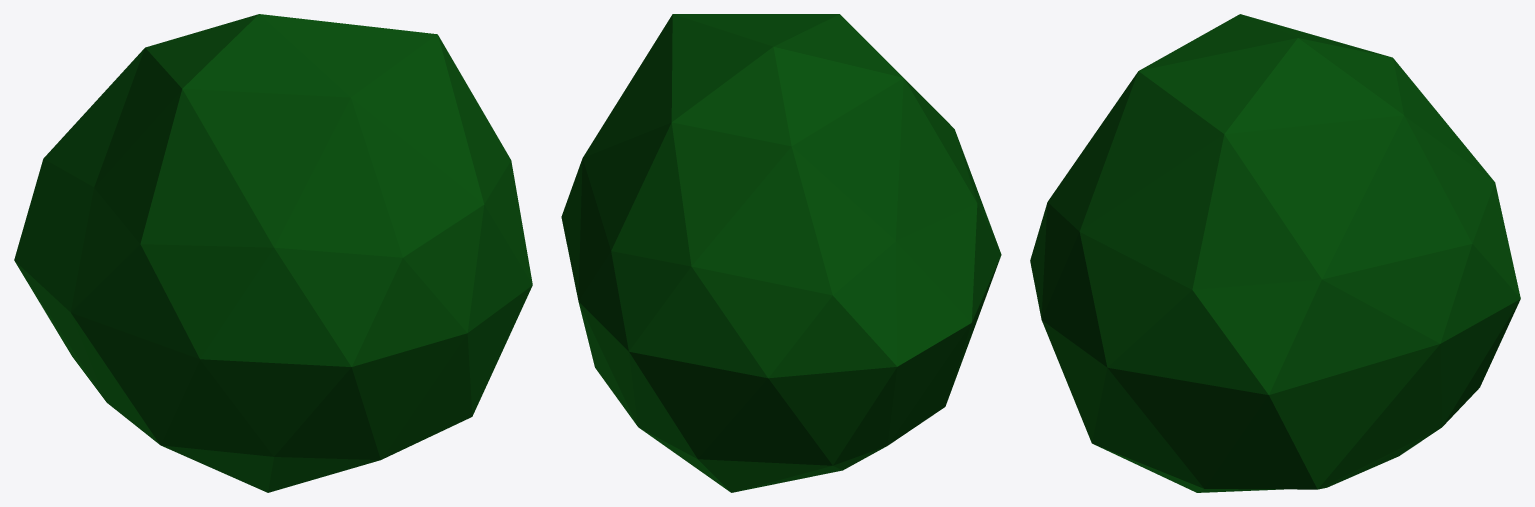
Rendered from bush5.fbx.
The picture shows the model from 3 angles, left to right: view 1: azimuth 30°, elevation 25°; view 2: azimuth 150°, elevation 25°; view 3: azimuth 270°, elevation 25°; orthographic projection. The views are drawn at different scales.
Visible parts, largest first — view 1: Cube; view 2: Cube; view 3: Cube.
Part boxes in pixels (x1,y1,x2,y2): Cube: (14,14,532,492); Cube: (561,14,1001,492); Cube: (1030,14,1520,492).
Bounding box in the file's own units: 213 × 208 × 210.
